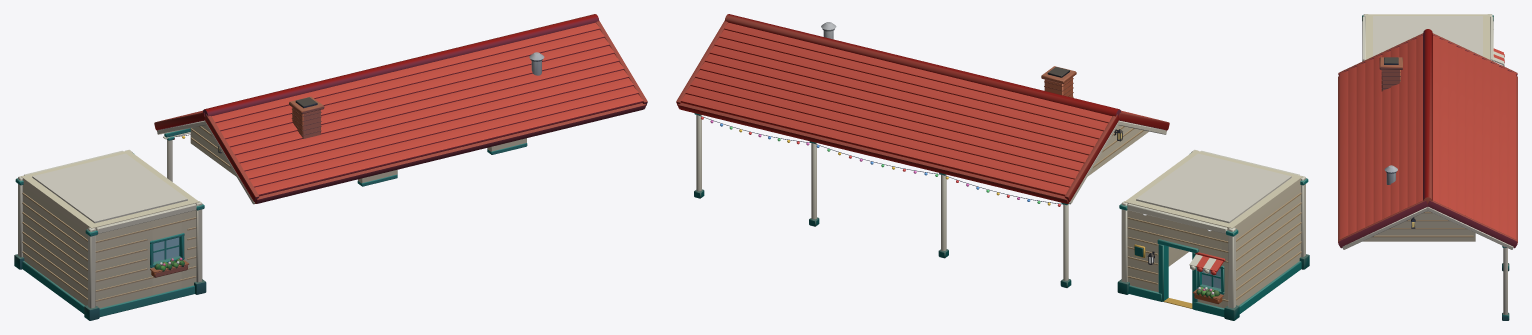
Rendered from motel_kit_rooms.fbx.
The picture shows the model from 3 angles, left to right: view 1: azimuth 30°, elevation 25°; view 2: azimuth 150°, elevation 25°; view 3: azimuth 270°, elevation 25°; orthographic projection. The views are drawn at different scales.
Visible parts, largest first — view 1: SM_Bld_RoomRoofV2_Roof, SM_Bld_RoomV2_Walls, SM_Bld_RoomV2_Trim, SM_Bld_RoomRoofV2_Trim, SM_Bld_RoomRoofV2_Walls, SM_Bld_RoomV2_Flowers, SM_Bld_RoomV2_Glass; view 2: SM_Bld_RoomRoofV2_Roof, SM_Bld_RoomV2_Walls, SM_Bld_RoomV2_Trim, SM_Bld_RoomRoofV2_Trim, SM_Bld_RoomRoofV2_Walls, SM_Bld_RoomV2_Awning; view 3: SM_Bld_RoomRoofV2_Roof, SM_Bld_RoomV2_Walls, SM_Bld_RoomRoofV2_Trim, SM_Bld_RoomRoofV2_Walls, SM_Bld_RoomV2_Trim, SM_Bld_RoomV2_Awning.
Part boxes in pixels (bbox=[...]): SM_Bld_RoomRoofV2_Roof: bbox=[154, 14, 647, 203]; SM_Bld_RoomV2_Walls: bbox=[21, 150, 199, 308]; SM_Bld_RoomV2_Trim: bbox=[14, 149, 206, 320]; SM_Bld_RoomRoofV2_Trim: bbox=[157, 120, 527, 204]; SM_Bld_RoomRoofV2_Walls: bbox=[190, 125, 526, 183]; SM_Bld_RoomV2_Flowers: bbox=[150, 257, 189, 277]; SM_Bld_RoomV2_Glass: bbox=[153, 237, 179, 262]; SM_Bld_RoomRoofV2_Roof: bbox=[676, 14, 1169, 203]; SM_Bld_RoomV2_Walls: bbox=[1124, 150, 1302, 308]; SM_Bld_RoomV2_Trim: bbox=[1117, 149, 1309, 320]; SM_Bld_RoomRoofV2_Trim: bbox=[694, 113, 1166, 287]; SM_Bld_RoomRoofV2_Walls: bbox=[1087, 125, 1148, 176]; SM_Bld_RoomV2_Awning: bbox=[1189, 252, 1225, 275]; SM_Bld_RoomRoofV2_Roof: bbox=[1338, 29, 1517, 248]; SM_Bld_RoomV2_Walls: bbox=[1365, 14, 1490, 59]; SM_Bld_RoomRoofV2_Trim: bbox=[1342, 207, 1513, 320]; SM_Bld_RoomRoofV2_Walls: bbox=[1362, 211, 1475, 241]; SM_Bld_RoomV2_Trim: bbox=[1362, 14, 1493, 61]; SM_Bld_RoomV2_Awning: bbox=[1493, 48, 1504, 66].
Size of the model in its own units: 75.84 by 19.95 by 24.52.
